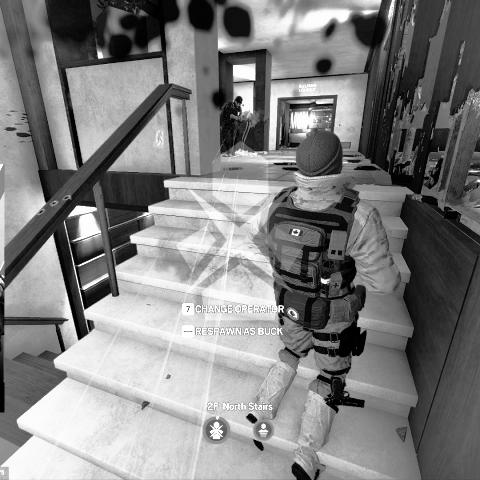Character: (247, 129, 405, 480), (220, 94, 245, 158)
Head: (295, 130, 345, 180), (234, 95, 243, 106)
